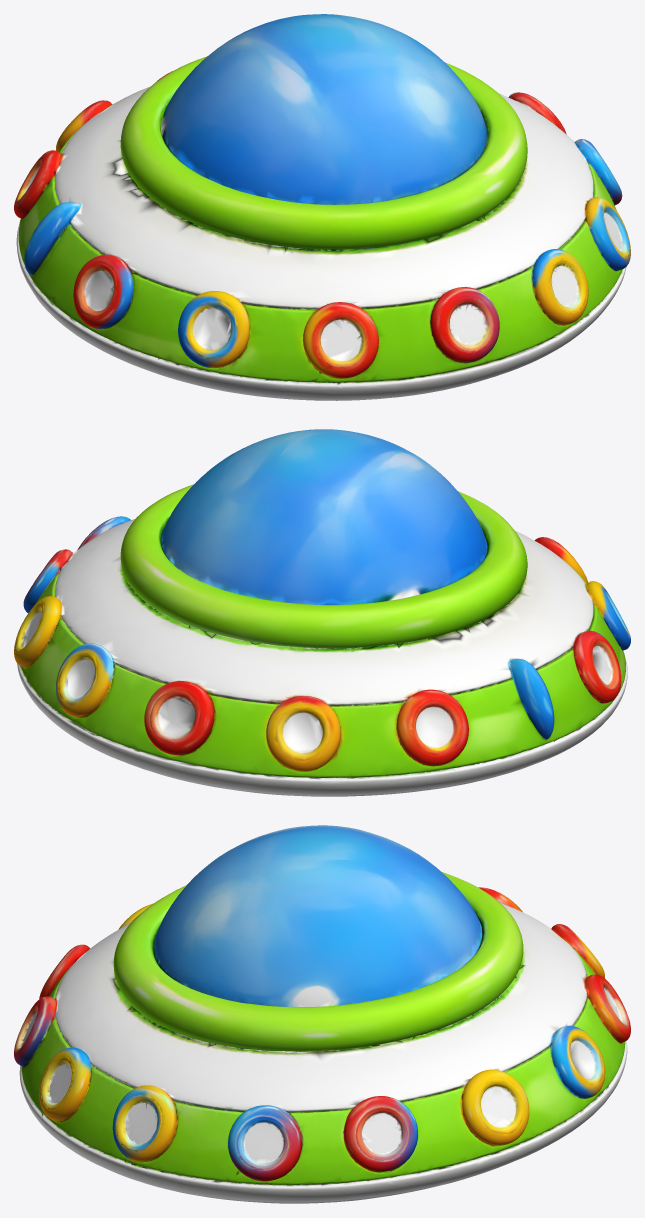
File: ovni2-3d.glb
3 renders of one model, top to bottom at view 1: azimuth 30°, elevation 25°; view 2: azimuth 150°, elevation 25°; view 3: azimuth 270°, elevation 25°, orthographic.
Parts seen in each view (by area): view 1: tripo_node_9f97f931-c95b-4a3e-86b4-7085fbfda107; view 2: tripo_node_9f97f931-c95b-4a3e-86b4-7085fbfda107; view 3: tripo_node_9f97f931-c95b-4a3e-86b4-7085fbfda107.
Boxes of the visible parts, bbox=[...] form: tripo_node_9f97f931-c95b-4a3e-86b4-7085fbfda107: bbox=[14, 14, 630, 400]; tripo_node_9f97f931-c95b-4a3e-86b4-7085fbfda107: bbox=[14, 429, 630, 796]; tripo_node_9f97f931-c95b-4a3e-86b4-7085fbfda107: bbox=[14, 825, 630, 1203].
Bounding box in the file's own units: 0.9776 × 0.4923 × 0.9796.
Materials: 1 (1 with a texture image).
